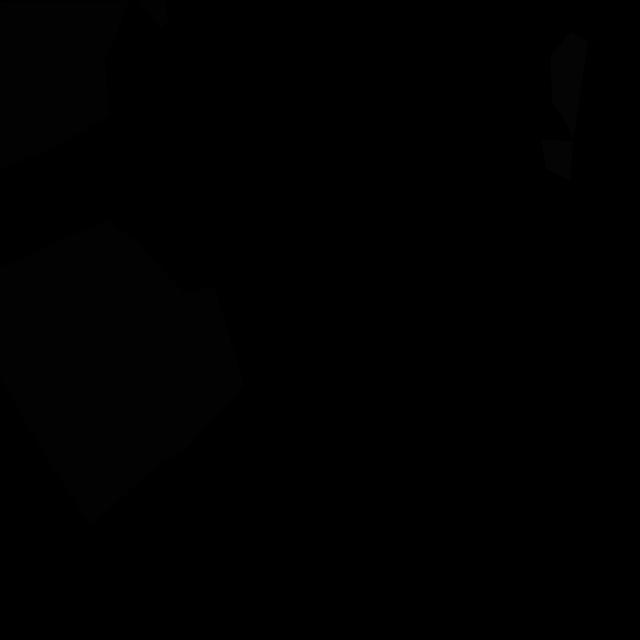cardboard: (0, 220, 244, 527), (0, 1, 168, 170)
soft_plastic: (550, 32, 588, 141), (541, 139, 573, 180)
